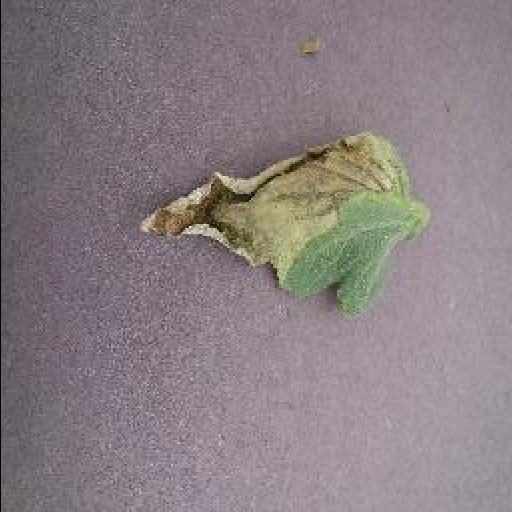disease_tomato: (136, 129, 416, 319)
